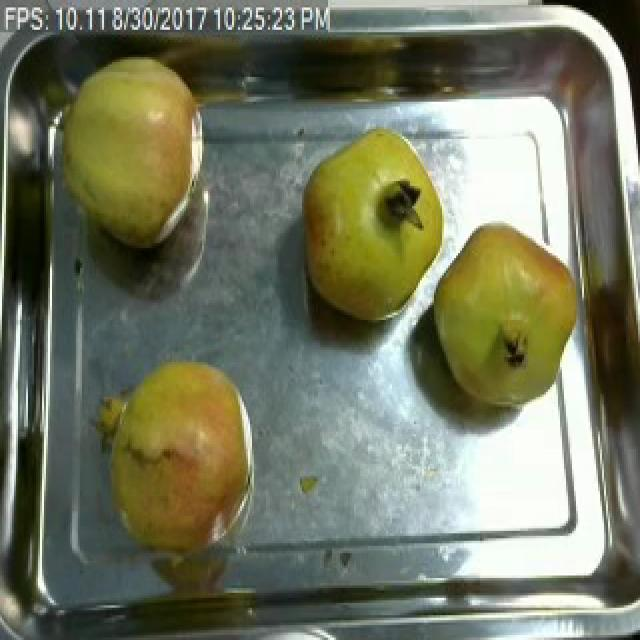fruit: (86, 342, 268, 578), (424, 211, 590, 424), (290, 116, 452, 328), (52, 50, 214, 258)
